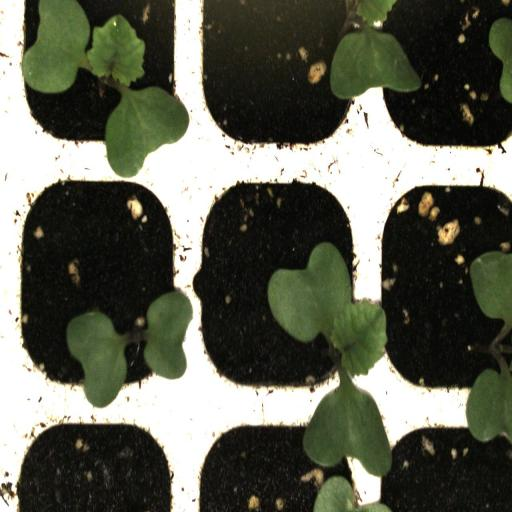Folha: (267, 242, 392, 477), (330, 0, 421, 100), (66, 309, 128, 408), (143, 291, 193, 379), (466, 367, 512, 443), (470, 251, 512, 330), (313, 475, 391, 512)
Germinacao: (194, 164, 369, 400), (10, 168, 190, 397), (369, 161, 512, 397), (11, 0, 188, 162), (189, 0, 373, 155)
